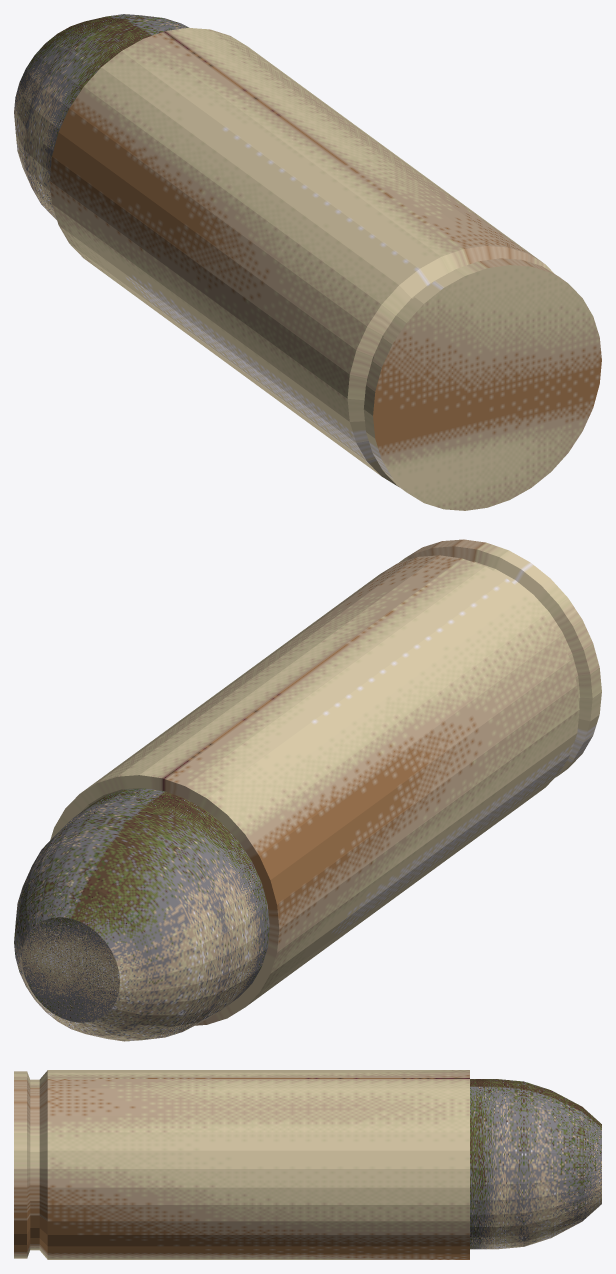
Rendered from bullet.glb.
3 views of the same model, one above another, from view 1: azimuth 30°, elevation 25°; view 2: azimuth 150°, elevation 25°; view 3: azimuth 270°, elevation 25° (orthographic). The views are drawn at different scales.
Parts seen in each view (by area): view 1: shell, round; view 2: shell, round; view 3: shell, round.
Boxes of the visible parts, box(x1,y1,x2,y2) form: shell: box(49, 28, 601, 510); round: box(14, 14, 189, 219); shell: box(50, 539, 601, 1025); round: box(14, 788, 269, 1041); shell: box(14, 1070, 469, 1259); round: box(470, 1079, 601, 1249).
Bounding box in the file's own units: 0.5568 × 0.5568 × 1.72.
Materials: 1 (1 with a texture image).
